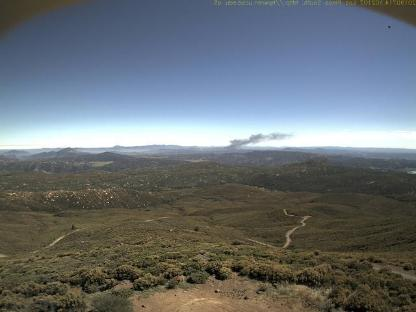smoke: (214, 130, 295, 158)
